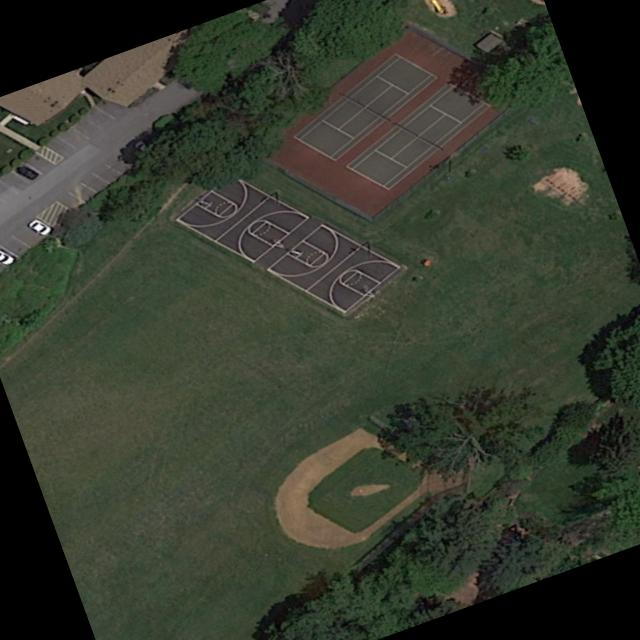small-vehicle: (26, 217, 54, 235), (13, 163, 41, 180), (0, 246, 19, 267), (131, 137, 154, 154)
